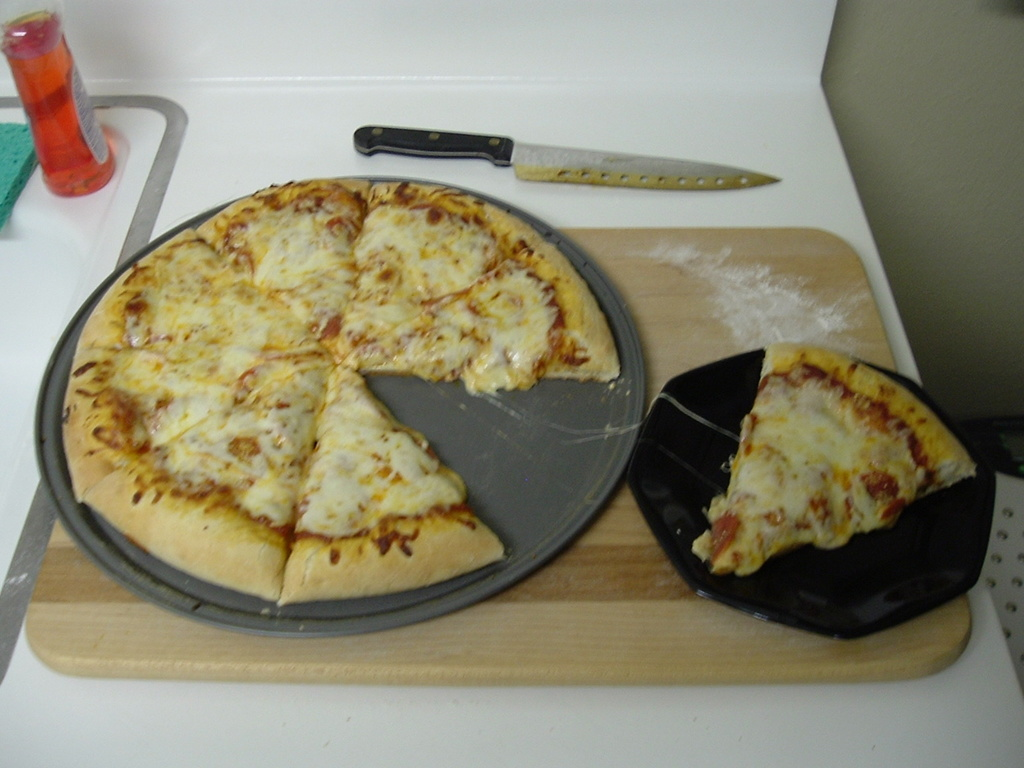Pizza: (89, 354, 319, 600), (717, 346, 980, 560), (277, 366, 512, 605), (329, 173, 552, 349), (71, 224, 308, 360), (64, 342, 280, 489), (357, 278, 611, 381), (188, 181, 349, 334)
